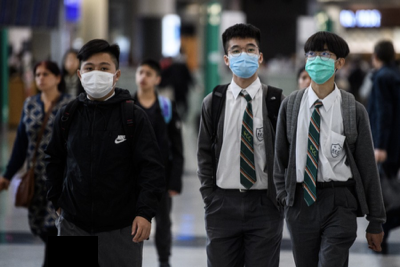with_mask: (80, 61, 116, 100), (304, 47, 339, 84), (228, 42, 260, 80)
without_mask: (135, 69, 156, 90), (35, 69, 55, 91)
